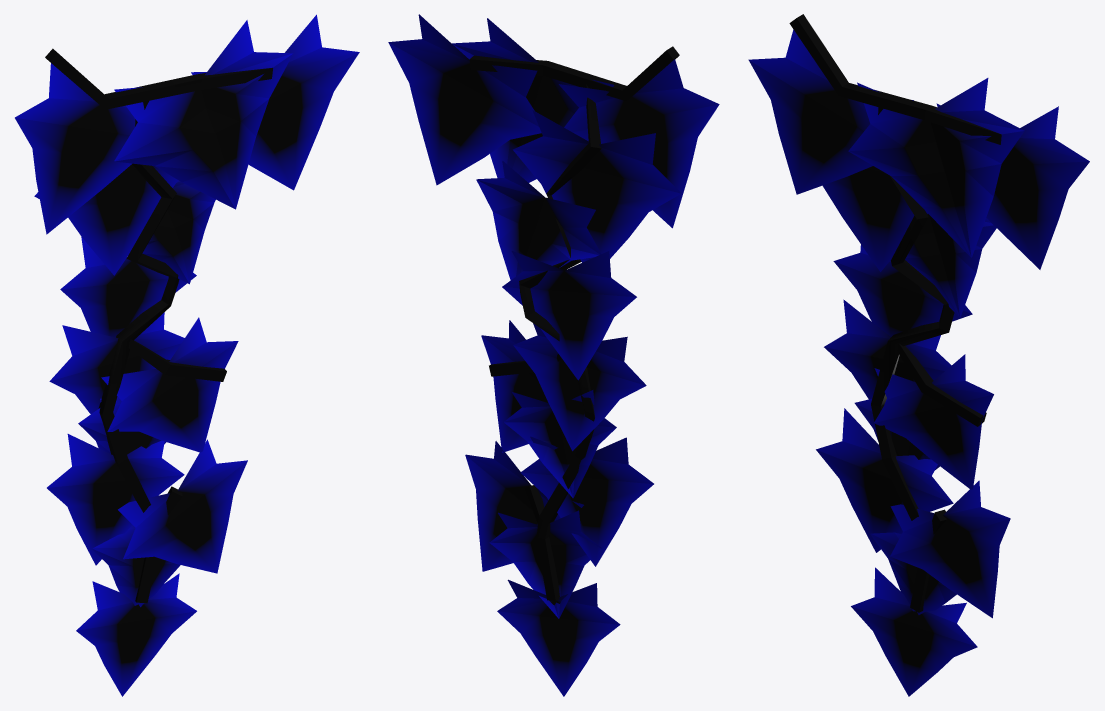
File: SM_Foliage_04.fbx
The picture shows the model from 3 angles, left to right: view 1: azimuth 30°, elevation 25°; view 2: azimuth 150°, elevation 25°; view 3: azimuth 330°, elevation 25°; orthographic projection. The views are drawn at different scales.
Visible parts, largest first — view 1: SM_Foliage_05; view 2: SM_Foliage_05; view 3: SM_Foliage_05.
Boxes of the visible parts, x1,y1,x2,y2 form: SM_Foliage_05: [15, 14, 359, 696]; SM_Foliage_05: [388, 14, 719, 696]; SM_Foliage_05: [748, 14, 1089, 696].
Size of the model in its own units: 66.51 by 11.03 by 126.
